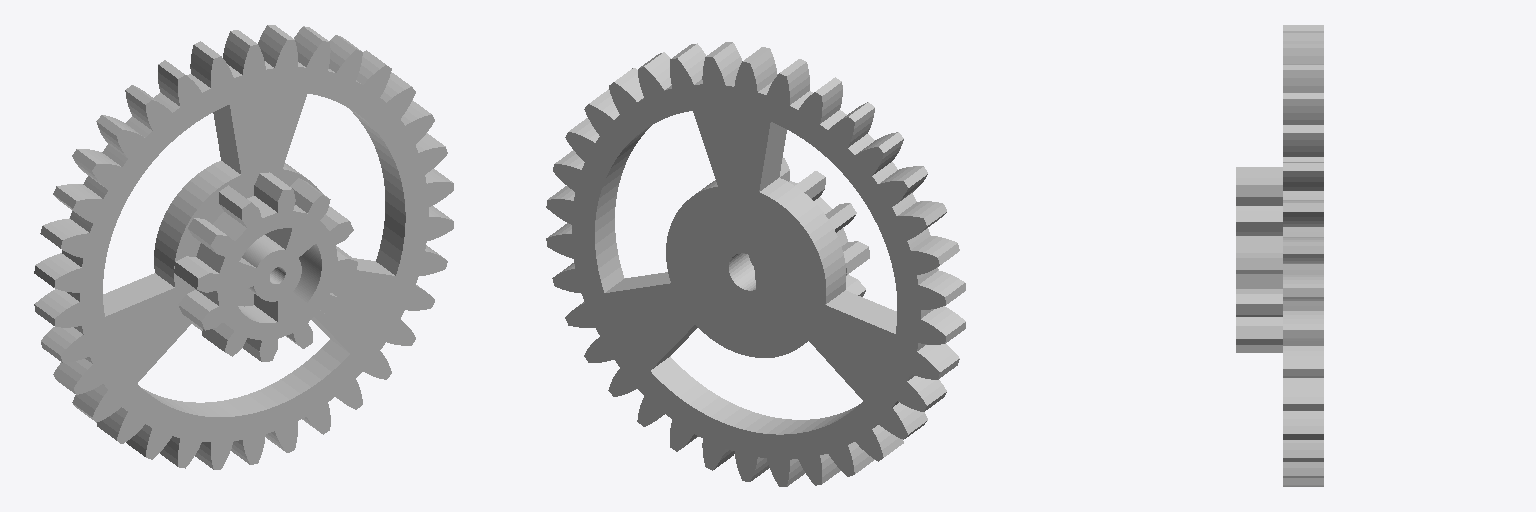
The model's file is gear5.obj.
3 views of the same model, side by side, from view 1: azimuth 30°, elevation 25°; view 2: azimuth 150°, elevation 25°; view 3: azimuth 270°, elevation 25° (orthographic).
Visible parts, largest first — view 1: Gearing.009_Gearing.011, Cogwheels-Driveunit.000_Cogwheels-Driveunit.005, Cogwheels-Driveunit.004; view 2: Gearing.009_Gearing.011, Cogwheels-Driveunit.000_Cogwheels-Driveunit.005, Cogwheels-Driveunit.004; view 3: Gearing.009_Gearing.011, Cogwheels-Driveunit.000_Cogwheels-Driveunit.005, Cogwheels-Driveunit.004.
Boxes of the visible parts, box(x1,y1,x2,y2) form: Gearing.009_Gearing.011: box(34, 25, 453, 469); Cogwheels-Driveunit.000_Cogwheels-Driveunit.005: box(186, 181, 357, 361); Cogwheels-Driveunit.004: box(174, 172, 344, 352); Gearing.009_Gearing.011: box(546, 42, 965, 486); Cogwheels-Driveunit.000_Cogwheels-Driveunit.005: box(779, 158, 869, 296); Cogwheels-Driveunit.004: box(749, 179, 858, 291); Gearing.009_Gearing.011: box(1283, 25, 1323, 486); Cogwheels-Driveunit.000_Cogwheels-Driveunit.005: box(1236, 167, 1259, 352); Cogwheels-Driveunit.004: box(1259, 167, 1282, 352).
Bounding box in the file's own units: 1.8 × 1.81 × 0.3414.